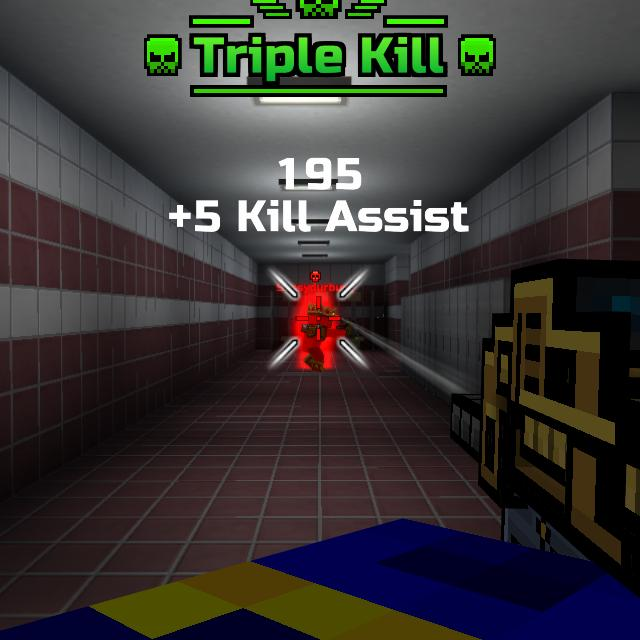Enemy: (303, 303, 342, 371)
